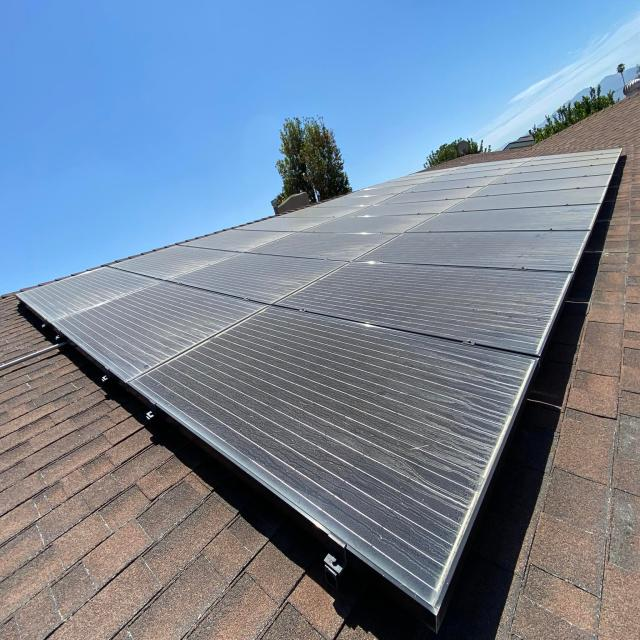dust-solar-panel: (15, 148, 625, 614)
